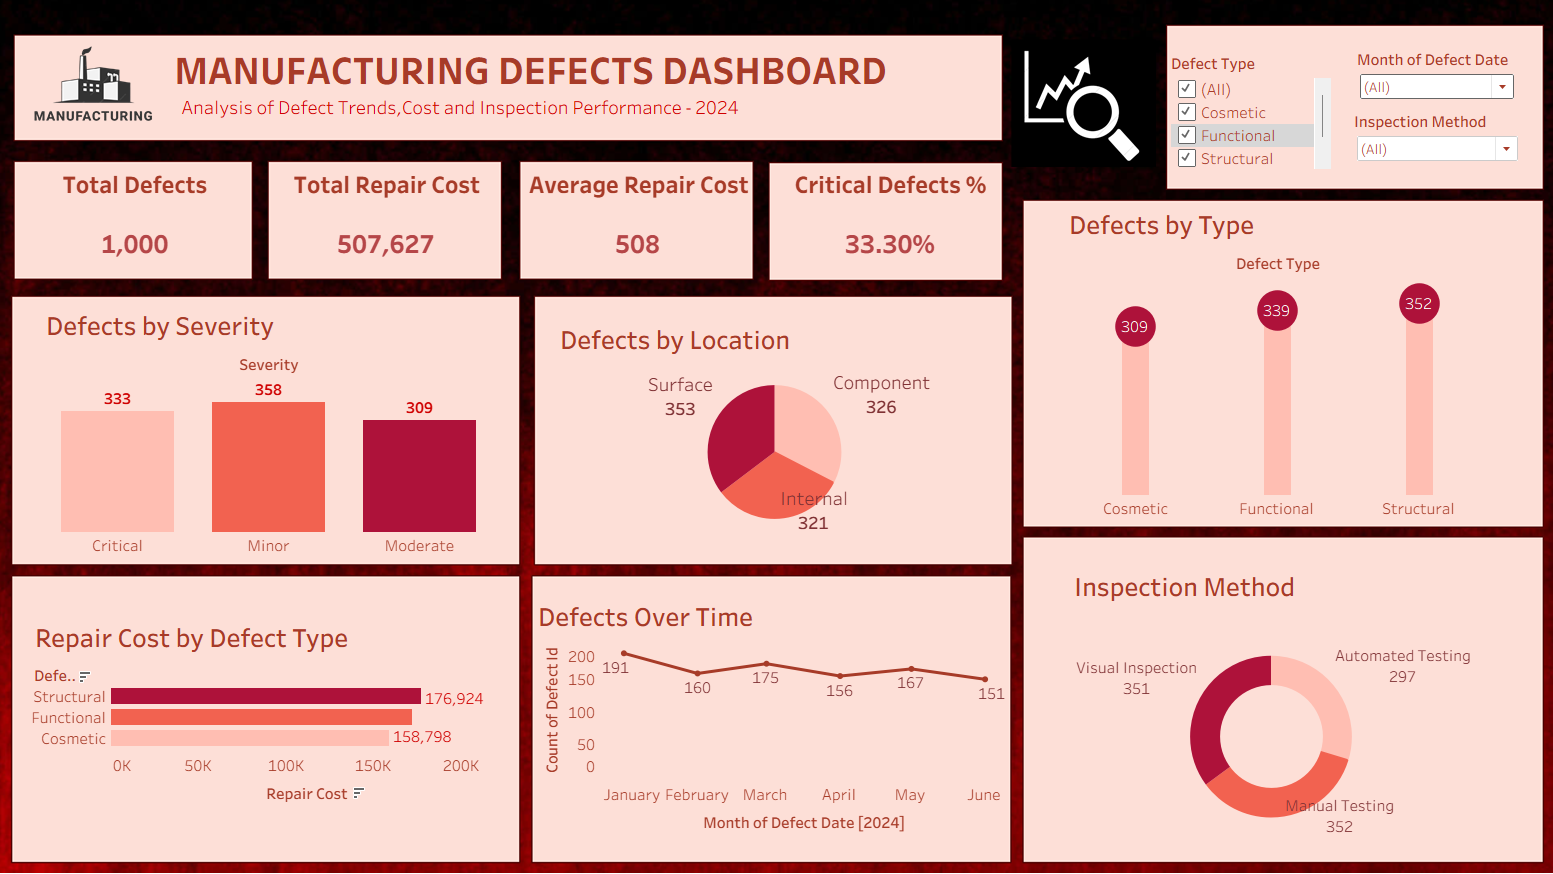

This screenshot's page, from the dashboard's own definition file:
{"tool":"tableau","page":{"name":"Dashboard 1","canvas":[1580,900],"ordinal":0},"visuals":[{"type":"image","param":"D:/python/project/dashboard/image/Presentation6.png","box":[8,8,1564,884]},{"type":"text","box":[184,44,767,78]},{"type":"image","param":"C:/Users/asus/OneDrive/Pictures/Screenshots/Screenshot 2025-11-20 190926.png","box":[1024,53,163,128]},{"type":"image","param":"C:/Users/asus/Downloads/Screenshot_2025-11-20_190914-removebg-preview.png","box":[23,58,168,80]},{"type":"filter","title":"Defects Over Time","param":"[federated.15srazo0jer3981d3eldl0pzz4zy].[mn:defect_date:ok]","box":[1370,63,160,54]},{"type":"filter","title":"Defects Over Time","param":"[federated.15srazo0jer3981d3eldl0pzz4zy].[none:defect_type:nk]","box":[1184,67,160,116]},{"type":"text","box":[191,105,689,31]},{"type":"filter","title":"Defects Over Time","param":"[federated.15srazo0jer3981d3eldl0pzz4zy].[none:inspection_method:nk]","box":[1367,125,167,62]},{"type":"worksheet","title":"KPI ","mark":"Automatic","box":[22,174,1008,126]},{"type":"worksheet","title":"Defects by Type","mark":"Bar","rows":["defect_id","defect_id"],"cols":["defect_type"],"box":[1078,217,425,317]},{"type":"worksheet","title":"Defects by Severity","mark":"Automatic","rows":["defect_id"],"cols":["severity"],"box":[55,318,453,253]},{"type":"worksheet","title":"Defects by Location","mark":"Pie","box":[569,332,437,218]},{"type":"worksheet","title":"Inspection Method","mark":"Pie","rows":["Calculation_1470143810285236231","Calculation_1470143810285236231"],"box":[1083,579,402,273]},{"type":"worksheet","title":"Defects Over Time","mark":"Automatic","rows":["defect_id"],"cols":["defect_date"],"box":[547,609,472,245]},{"type":"worksheet","title":"Repair Cost by Defect Type","mark":"Automatic","rows":["defect_type"],"cols":["repair_cost"],"box":[44,630,472,196]}]}

Visuals, with their boxes in screenshot pixels (x1, y1, x2, y2), scaled from the page's 1580x900 canvas onto the 1553x874 screenshot:
image: (8,8,1545,866)
text: (181,43,935,118)
image: (1007,51,1167,176)
image: (23,56,188,134)
"Defects Over Time" filter: (1347,61,1504,114)
"Defects Over Time" filter: (1164,65,1321,178)
text: (188,102,865,132)
"Defects Over Time" filter: (1344,121,1508,182)
"KPI " worksheet: (22,169,1012,291)
"Defects by Type" worksheet (Bar marks): (1060,211,1477,519)
"Defects by Severity" worksheet: (54,309,499,555)
"Defects by Location" worksheet (Pie marks): (559,322,989,534)
"Inspection Method" worksheet (Pie marks): (1064,562,1460,827)
"Defects Over Time" worksheet: (538,591,1002,829)
"Repair Cost by Defect Type" worksheet: (43,612,507,802)
